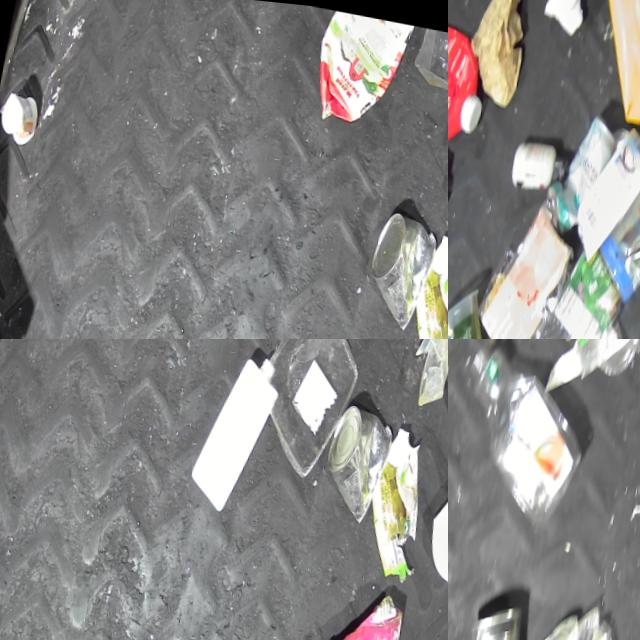can: (543, 101, 625, 238), (365, 199, 444, 324), (321, 392, 400, 517), (594, 137, 640, 305), (564, 233, 633, 333), (466, 584, 539, 640)
milk_jug: (189, 339, 289, 510)
non_white_jug: (308, 0, 418, 131), (581, 0, 640, 146)
